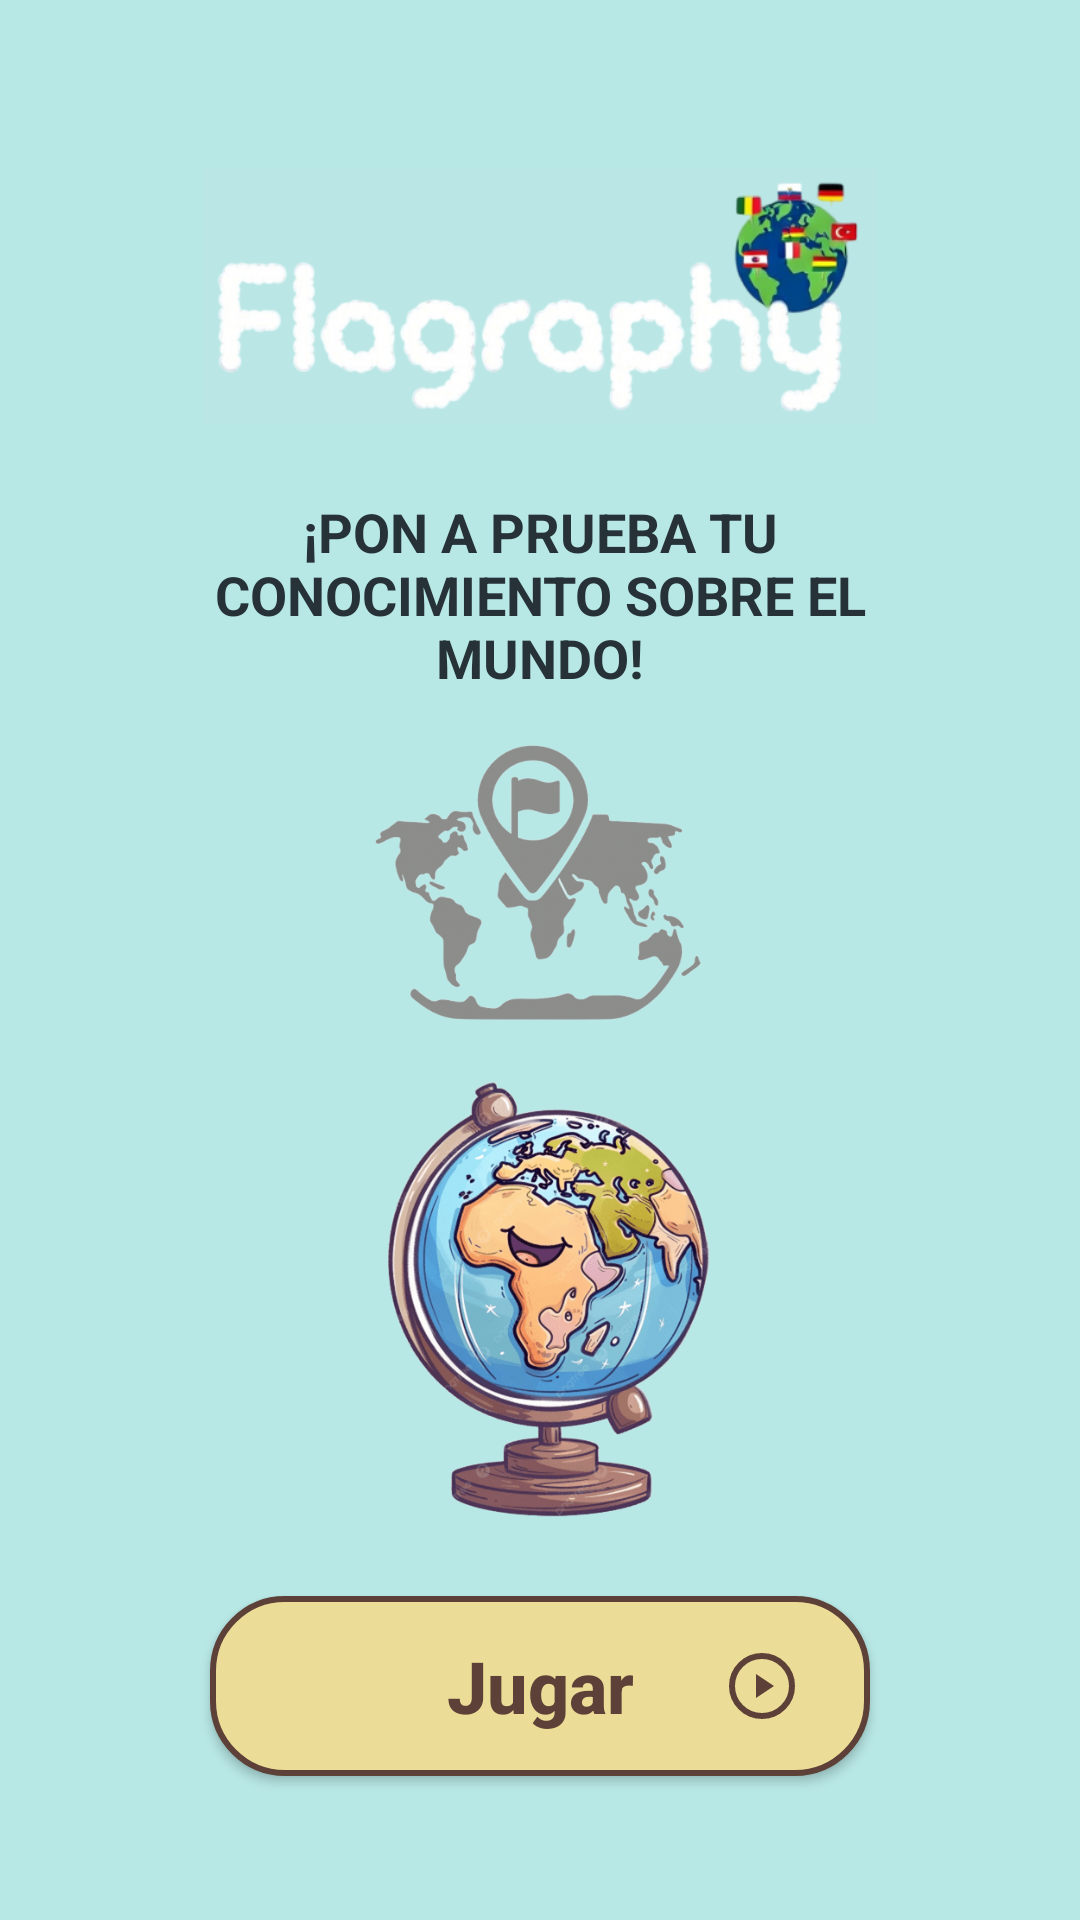

Where to tap for icons on this 1080w x 1920h app screen, as (x,y):
Mapa del mundo: (538,883)
